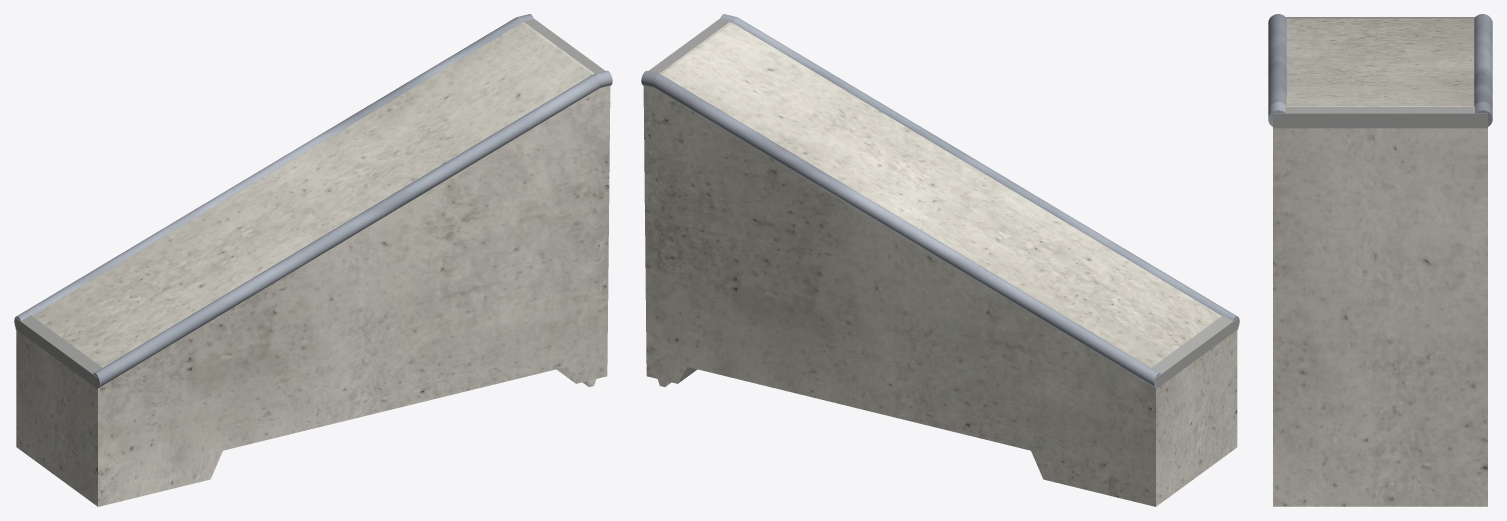
The model's file is ledge-kurz-98-40.gltf.
The picture shows the model from 3 angles, left to right: view 1: azimuth 30°, elevation 25°; view 2: azimuth 150°, elevation 25°; view 3: azimuth 270°, elevation 25°; orthographic projection. The views are drawn at different scales.
Visible parts, largest first — view 1: SK0176_Ledge_kurz-98-40.001; view 2: SK0176_Ledge_kurz-98-40.001; view 3: SK0176_Ledge_kurz-98-40.001.
Part boxes in pixels (<box>): SK0176_Ledge_kurz-98-40.001: <box>14,14,612,506</box>; SK0176_Ledge_kurz-98-40.001: <box>641,14,1239,506</box>; SK0176_Ledge_kurz-98-40.001: <box>1268,14,1492,506</box>.
Bounding box in the file's own units: 1.67 × 0.96 × 0.48.
